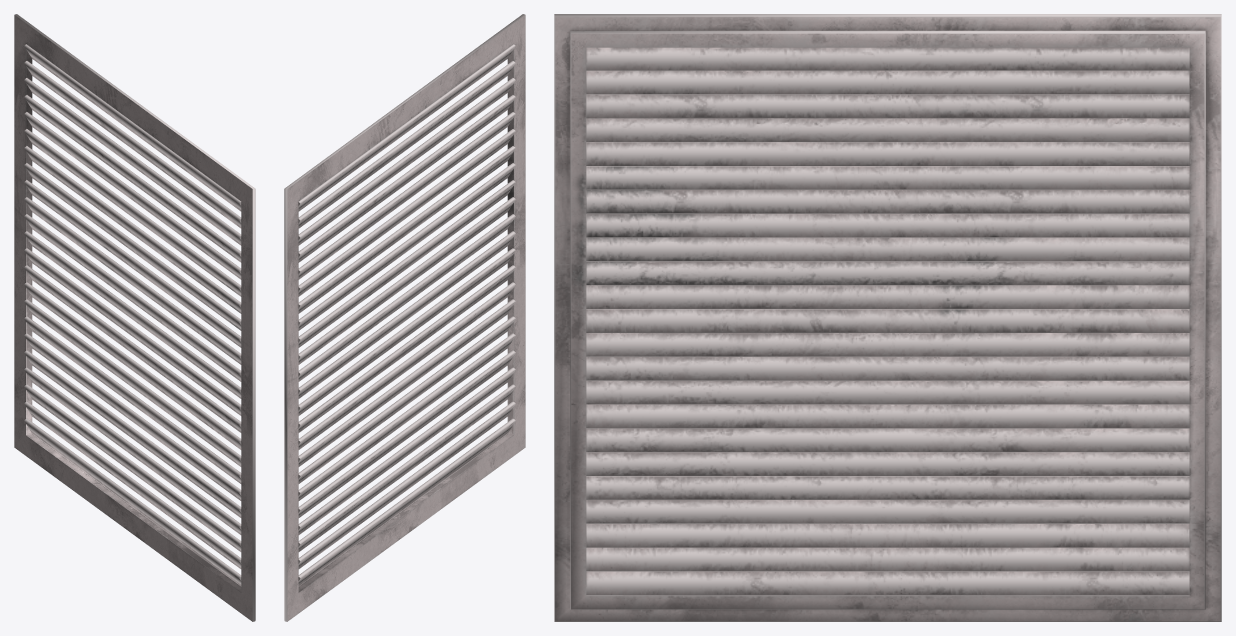
Rendered from vent.glb.
3 views of the same model, side by side, from view 1: azimuth 30°, elevation 25°; view 2: azimuth 150°, elevation 25°; view 3: azimuth 270°, elevation 25° (orthographic). The views are drawn at different scales.
Parts seen in each view (by area): view 1: Cube; view 2: Cube; view 3: Cube.
Part boxes in pixels (left/top/right/bottom): Cube: left=14, top=14, right=255, bottom=621; Cube: left=284, top=14, right=525, bottom=621; Cube: left=554, top=14, right=1221, bottom=621.
Size of the model in its own units: 0.0337 by 1.25 by 1.25.
Materials: 1 (1 with a texture image).
